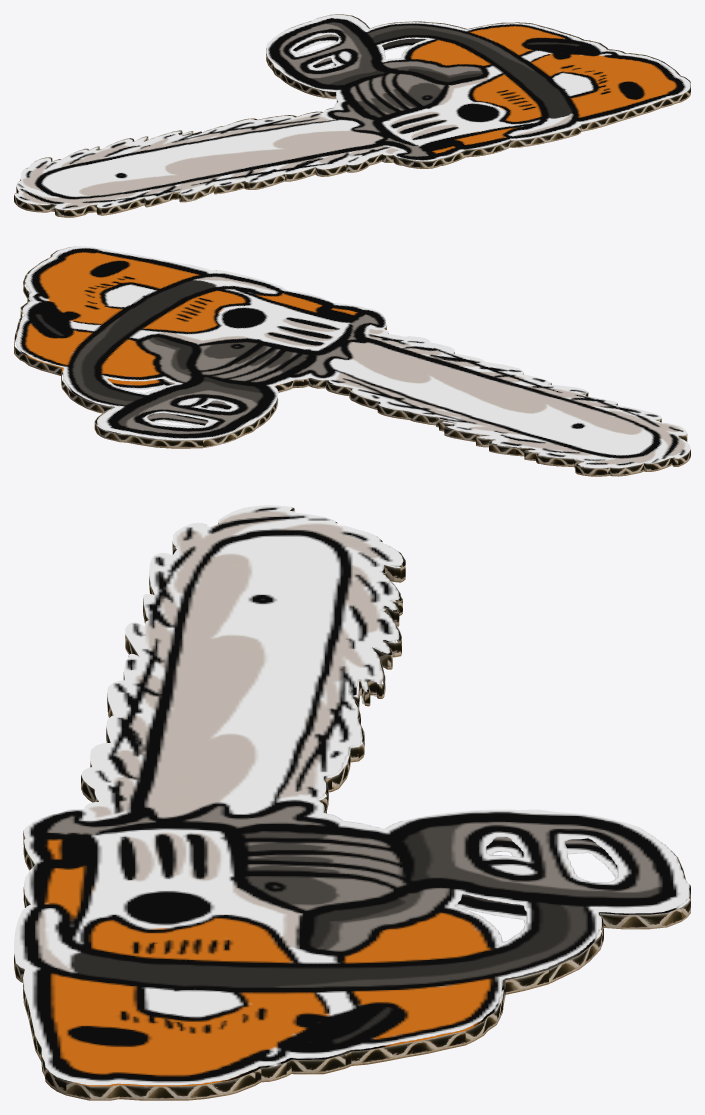
The model's file is chainsawSound.fbx.
3 views of the same model, one above another, from view 1: azimuth 30°, elevation 25°; view 2: azimuth 150°, elevation 25°; view 3: azimuth 270°, elevation 25° (orthographic). The views are drawn at different scales.
Visible parts, largest first — view 1: Plane; view 2: Plane; view 3: Plane.
Part boxes in pixels (left/top/right/bottom): Plane: left=14, top=14, right=690, bottom=217; Plane: left=14, top=246, right=690, bottom=476; Plane: left=14, top=505, right=690, bottom=1100.
Bounding box in the file's own units: 4.3 × 0.05 × 2.12.
